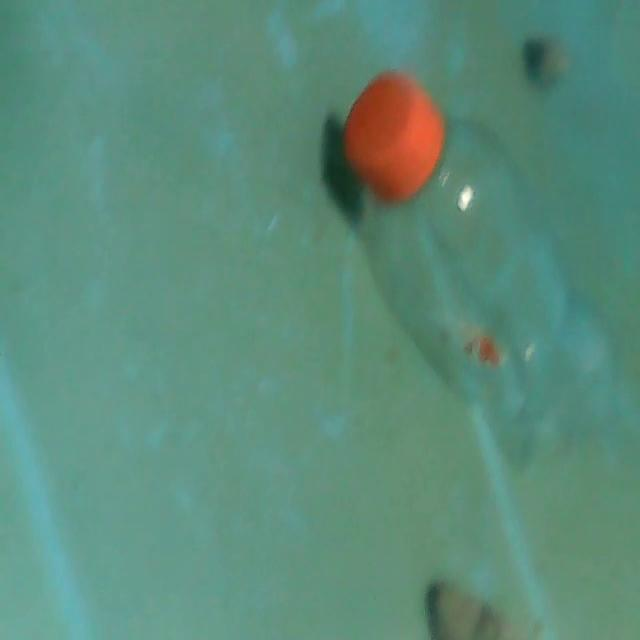plastic bottle: (335, 79, 632, 462)
